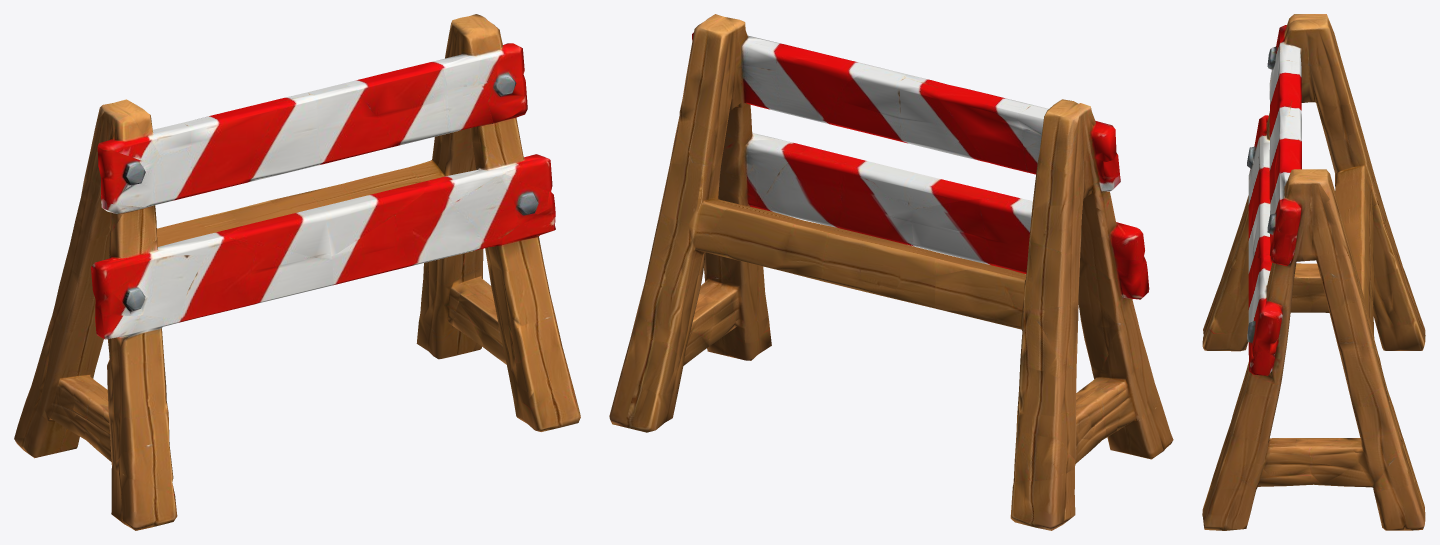
Rendered from hurdle.glb.
The picture shows the model from 3 angles, left to right: view 1: azimuth 30°, elevation 25°; view 2: azimuth 150°, elevation 25°; view 3: azimuth 270°, elevation 25°; orthographic projection. The views are drawn at different scales.
Size of the model in its own units: 1.9 by 1.48 by 0.8907.
1 material, 1 textured.
